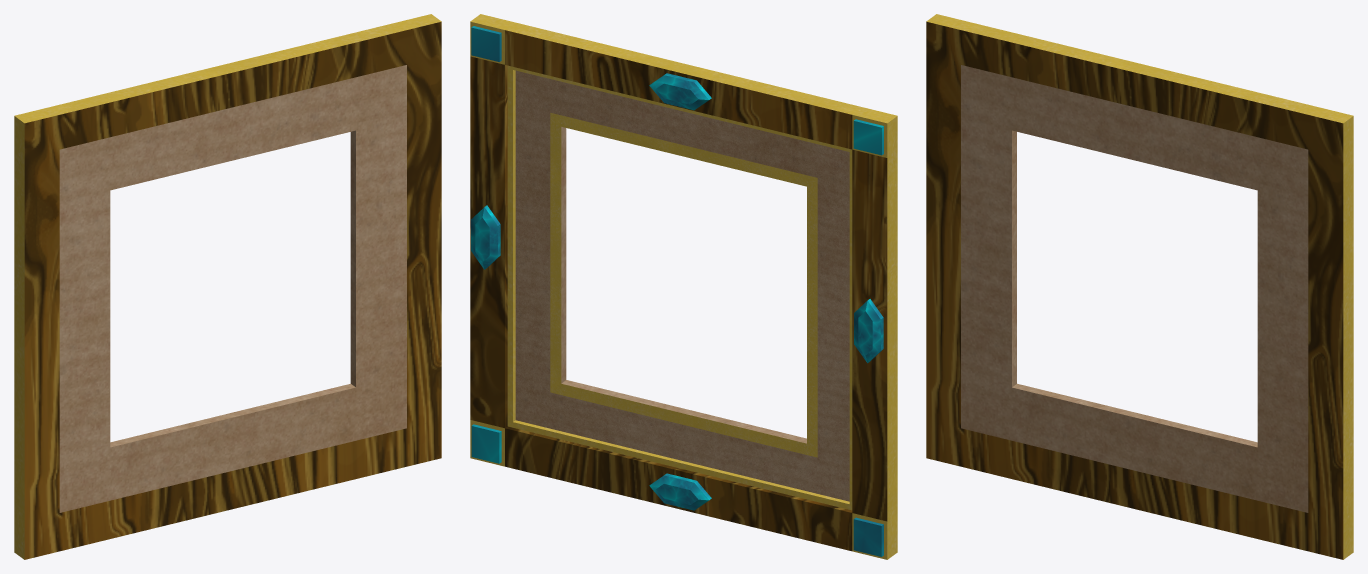
File: gem_frame.fbx
3 renders of one model, left to right at view 1: azimuth 30°, elevation 25°; view 2: azimuth 150°, elevation 25°; view 3: azimuth 330°, elevation 25°, orthographic.
Visible parts, largest first — view 1: Gem_frame; view 2: Gem_frame; view 3: Gem_frame.
Part boxes in pixels (left/top/right/bottom): Gem_frame: left=14, top=14, right=441, bottom=559; Gem_frame: left=470, top=14, right=897, bottom=559; Gem_frame: left=926, top=14, right=1353, bottom=559.
Size of the model in its own units: 30.46 by 30.46 by 1.93.
